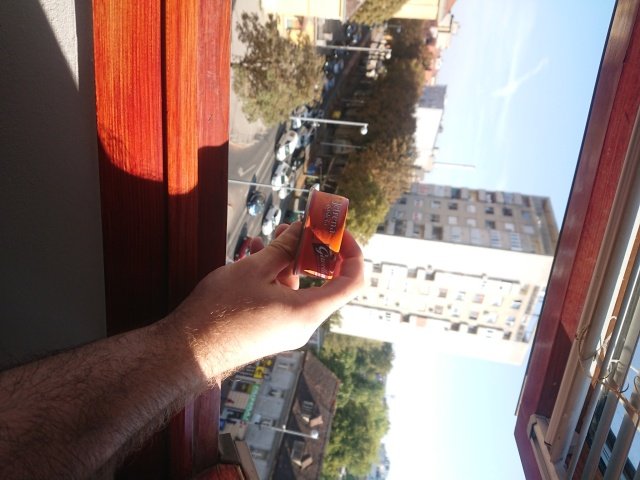Gavrilovic Pork Liver Pate 100g: (290, 184, 351, 282)
